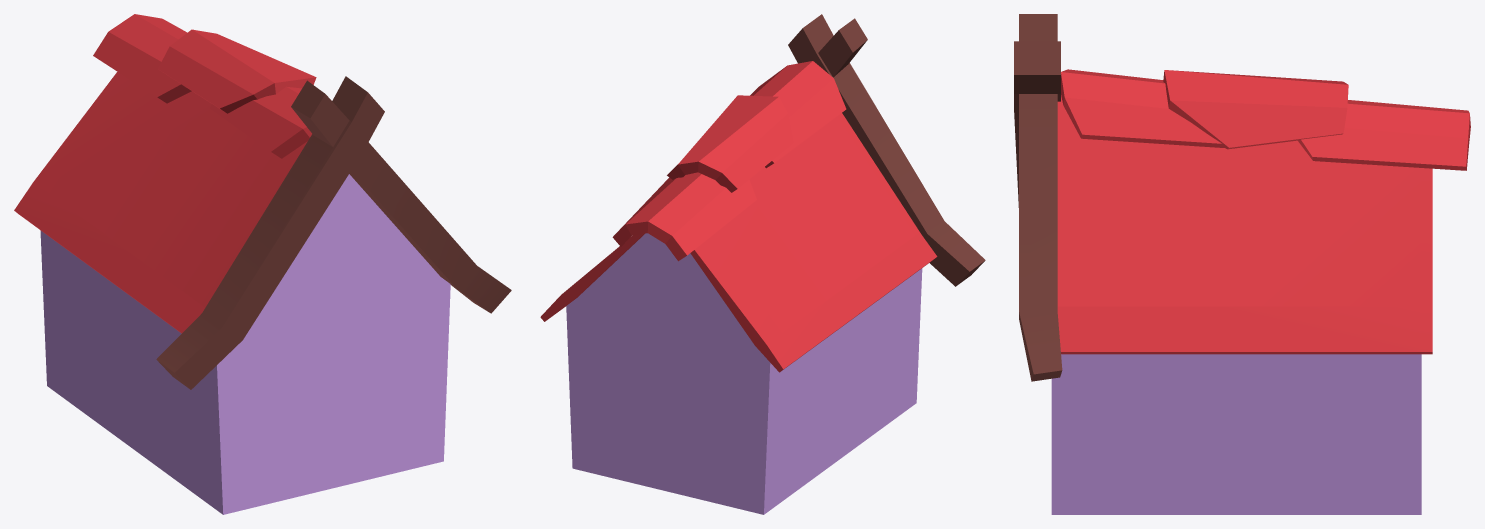
The model's file is BuildingRoof_Window_02.fbx.
The picture shows the model from 3 angles, left to right: view 1: azimuth 30°, elevation 25°; view 2: azimuth 150°, elevation 25°; view 3: azimuth 270°, elevation 25°; orthographic projection. The views are drawn at different scales.
Visible parts, largest first — view 1: BuildingRoofWidnow_02; view 2: BuildingRoofWidnow_02; view 3: BuildingRoofWidnow_02.
Part boxes in pixels (box(x1,y1,x2,y2)): BuildingRoofWidnow_02: box(14, 14, 511, 514); BuildingRoofWidnow_02: box(540, 14, 985, 514); BuildingRoofWidnow_02: box(1014, 14, 1470, 514).
Size of the model in its own units: 275 by 314 by 300.
